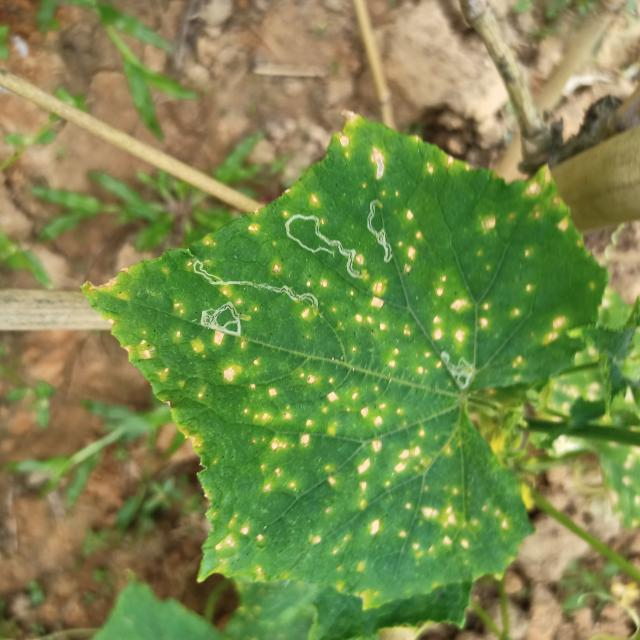disease_cucumber: (137, 115, 569, 409), (111, 329, 510, 577)
